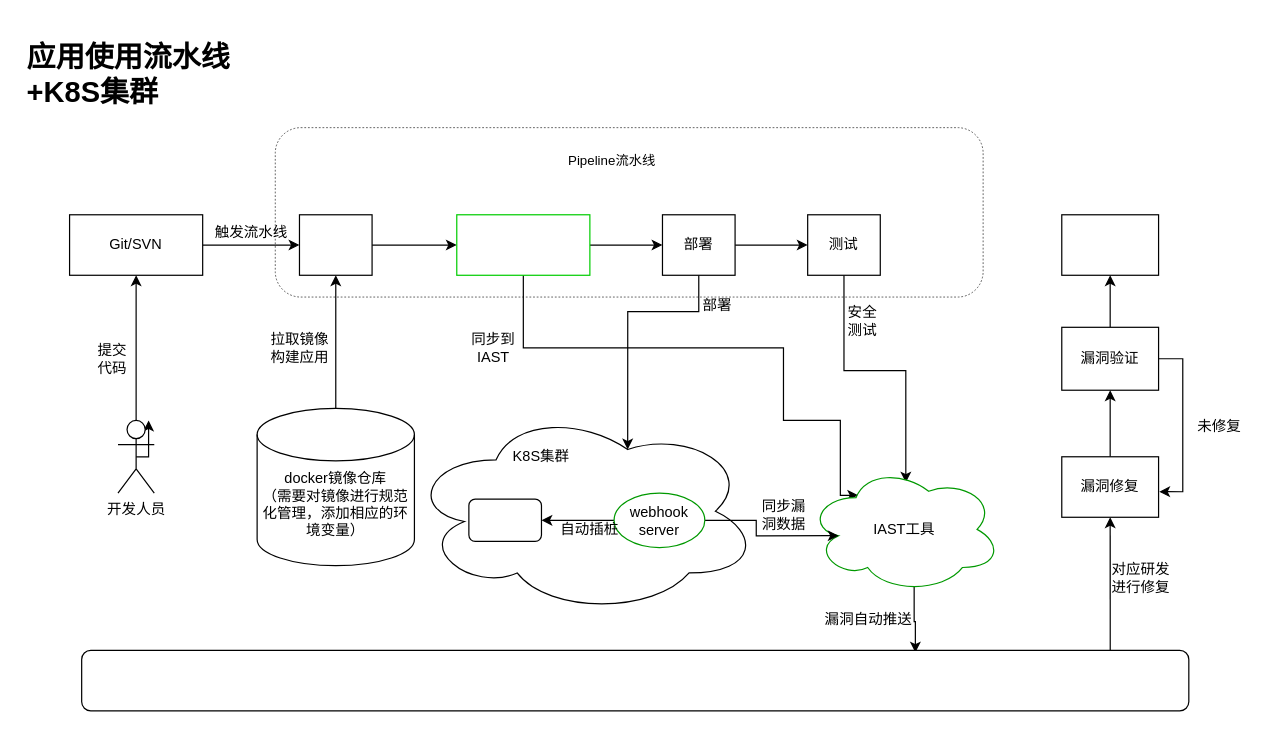
This 1275x732 diagram has some shape labels left out. The shapes that lost their labels are listed below. From the top down, each one's centre as x and y in pixels, then its label:
the point at 335,244: 编译
the point at 523,244: IAST建立项目绑定Tag
the point at 1110,244: 上线
the point at 504,519: 应用容器
the point at 634,680: JIRA
